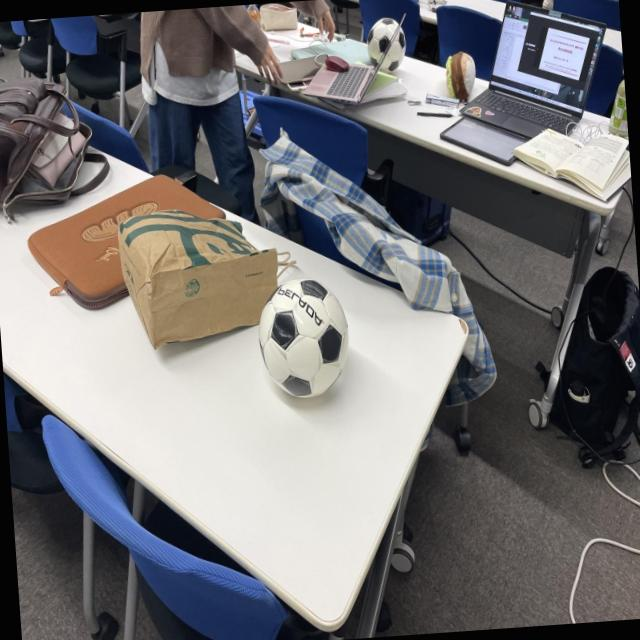Soccer Ball: (255, 275, 351, 402)
